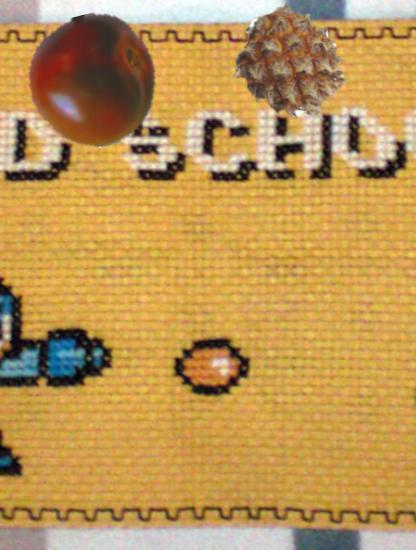Pineapple: (235, 7, 350, 122)
Tomato: (26, 15, 159, 148)
